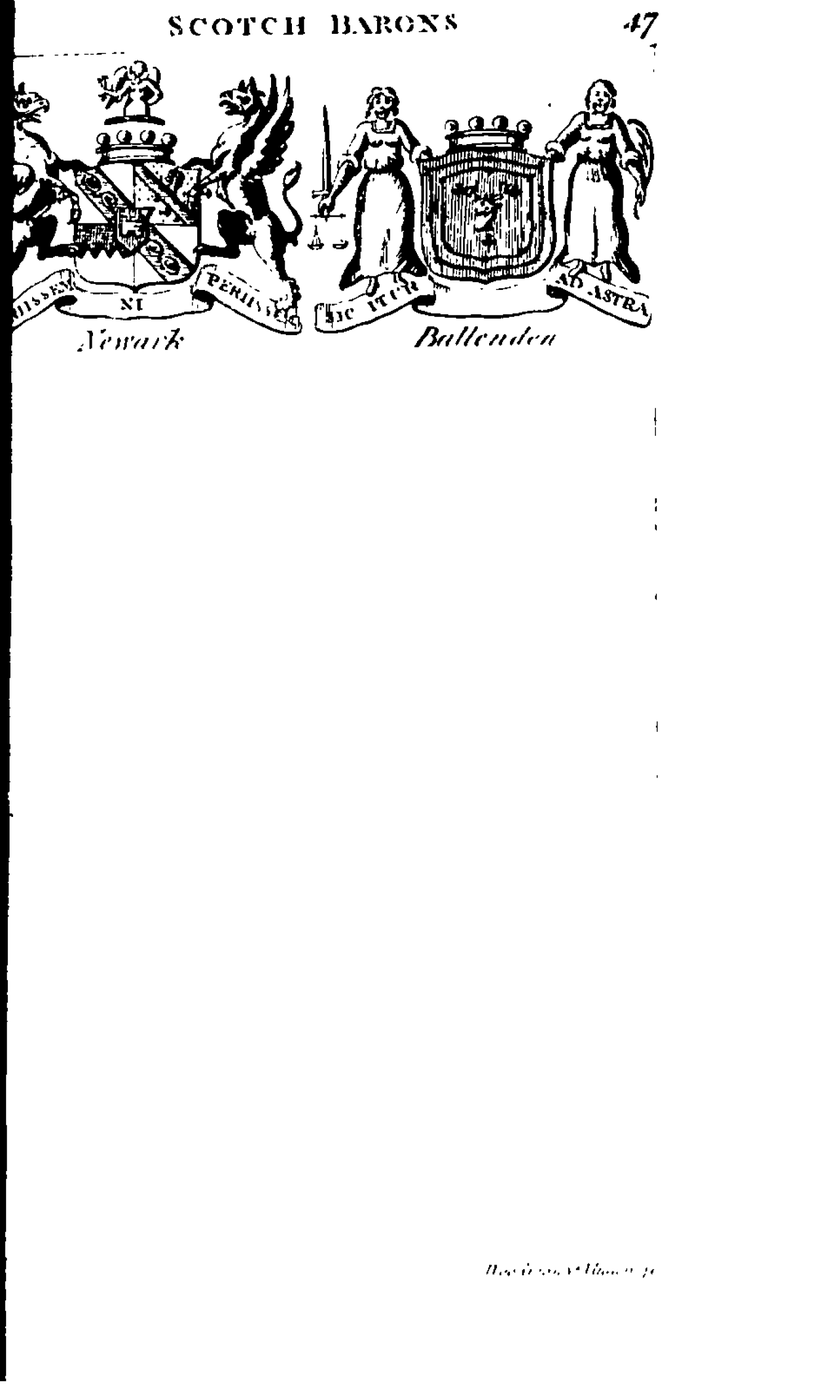coat_of_arms: (309, 52, 652, 359), (6, 54, 310, 362)
